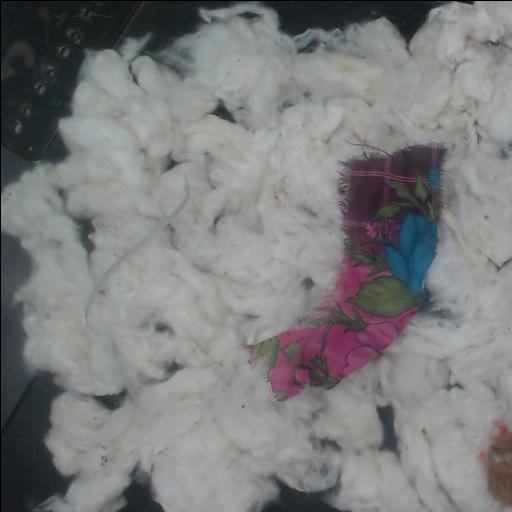cloth: (249, 147, 442, 399)
conveyor belt: (1, 1, 233, 191), (1, 233, 69, 512), (262, 1, 444, 41), (263, 481, 339, 512), (119, 471, 161, 512), (378, 406, 397, 450), (96, 393, 124, 408), (78, 218, 90, 251), (214, 103, 232, 119)
cotton: (1, 1, 512, 512)
jute: (481, 425, 512, 506)
